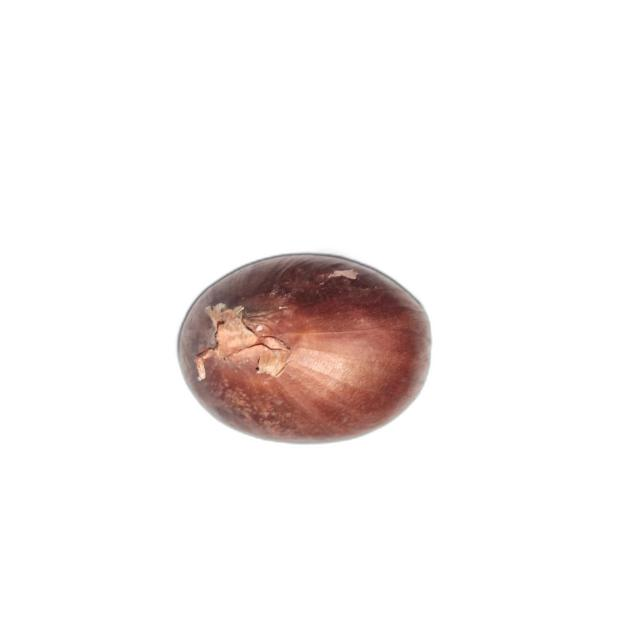onion: (176, 253, 432, 446)
